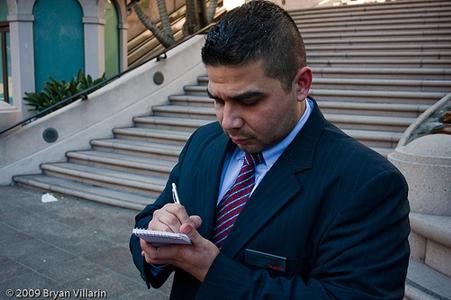person: (130, 5, 410, 299)
